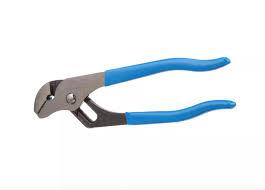pliers: (32, 55, 235, 128)
